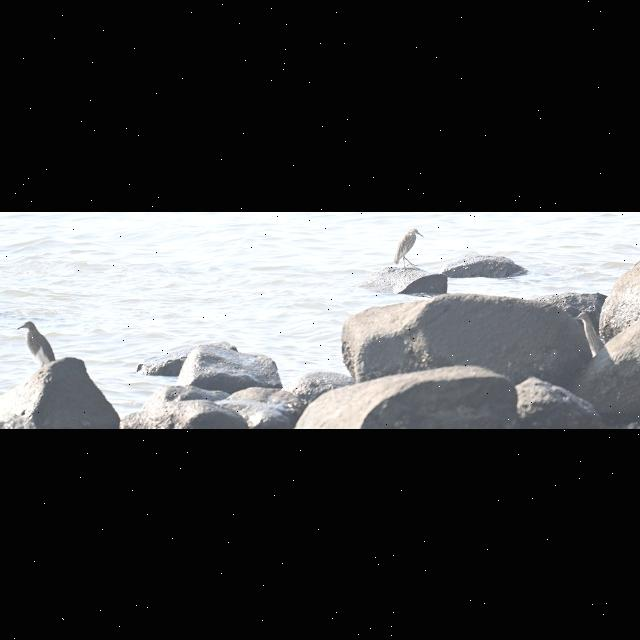heron: (12, 316, 66, 370), (390, 219, 422, 267)
